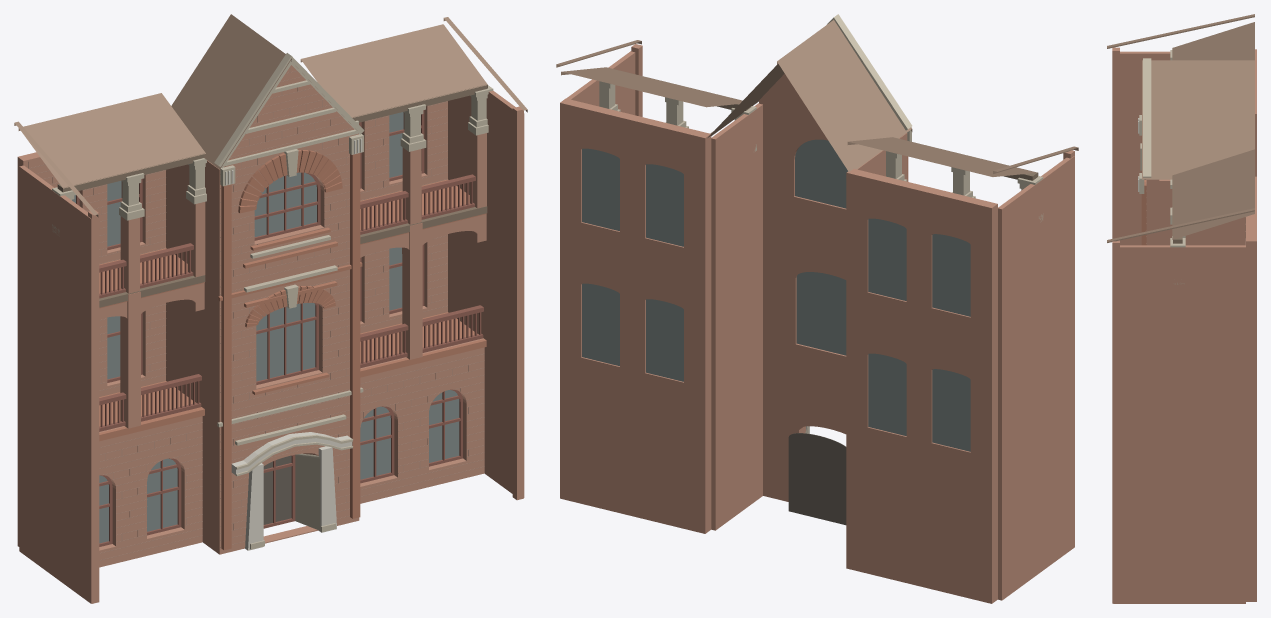
File: jingan-gordon-road-station-south-front-web.glb
3 renders of one model, left to right at view 1: azimuth 30°, elevation 25°; view 2: azimuth 150°, elevation 25°; view 3: azimuth 270°, elevation 25°, orthographic. The views are drawn at different scales.
Parts seen in each view (by area): view 1: 戈登路巡捕房南院面中央山墙与柱廊; view 2: 戈登路巡捕房南院面中央山墙与柱廊; view 3: 戈登路巡捕房南院面中央山墙与柱廊.
Part boxes in pixels (x1=…): 戈登路巡捕房南院面中央山墙与柱廊: x1=14, y1=14, x2=527, y2=603; 戈登路巡捕房南院面中央山墙与柱廊: x1=556, y1=14, x2=1078, y2=603; 戈登路巡捕房南院面中央山墙与柱廊: x1=1107, y1=14, x2=1256, y2=603.
Bounding box in the file's own units: 14.5 × 15.44 × 4.68.
